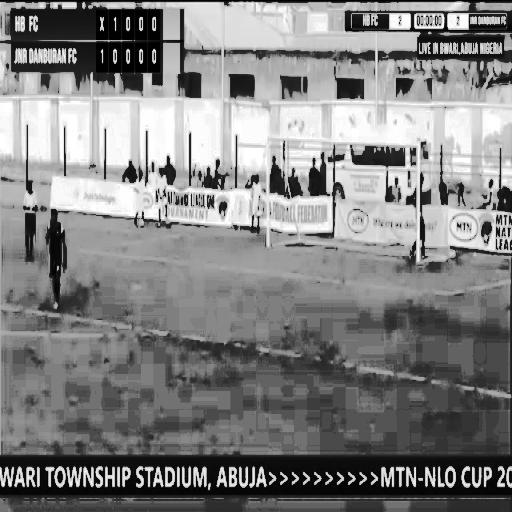referee: (20, 177, 43, 265)
team2: (40, 202, 70, 316)
